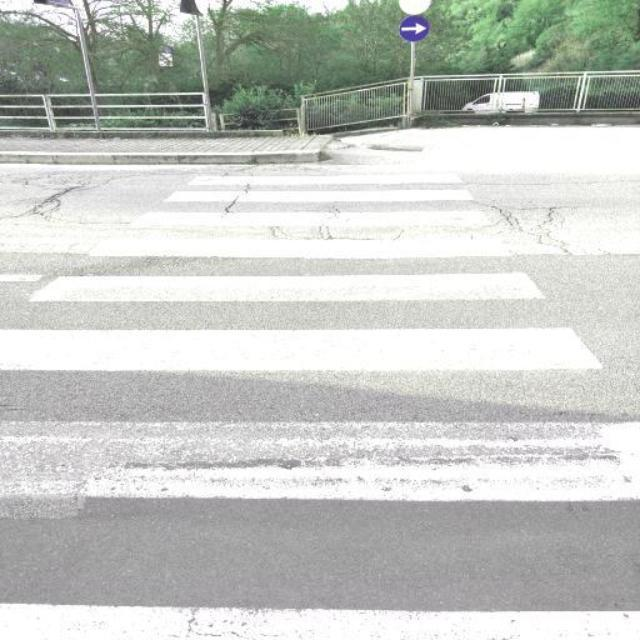sidewalk: (0, 161, 640, 640)
